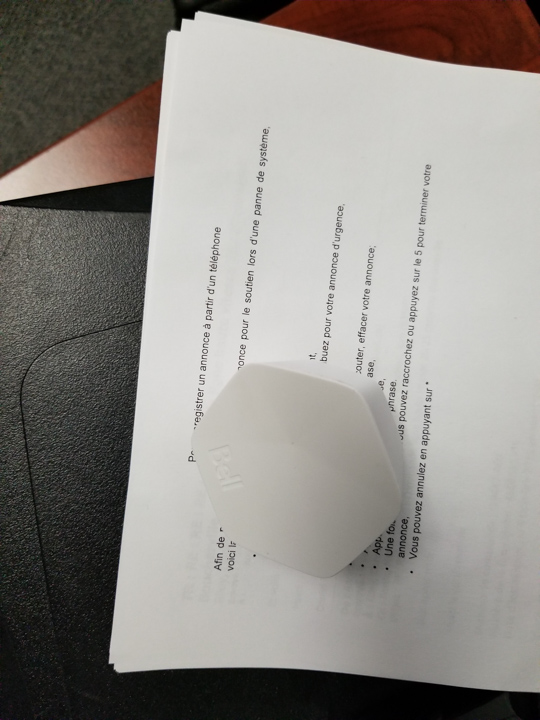pod: (185, 353, 427, 586)
